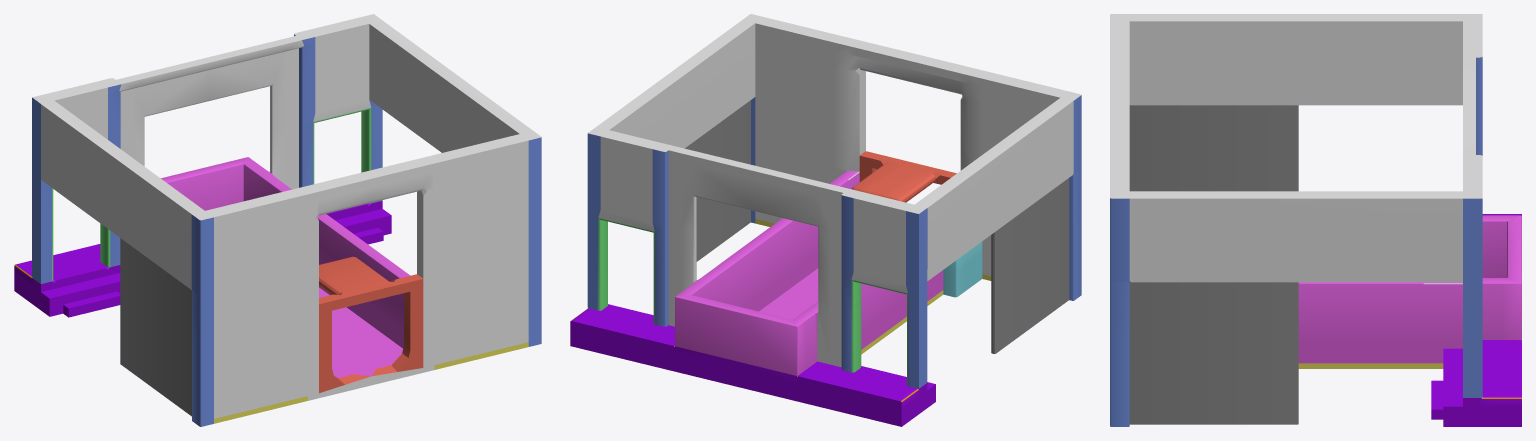
The model's file is OvenFrontEntry.fbx.
The picture shows the model from 3 angles, left to right: view 1: azimuth 30°, elevation 25°; view 2: azimuth 150°, elevation 25°; view 3: azimuth 270°, elevation 25°; orthographic projection. The views are drawn at different scales.
Visible parts, largest first — view 1: FrontEntry; view 2: FrontEntry; view 3: FrontEntry.
Boxes of the visible parts, box(x1,y1,x2,y2) form: FrontEntry: box(14, 14, 541, 426); FrontEntry: box(570, 14, 1081, 426); FrontEntry: box(1110, 14, 1521, 426).
Bounding box in the file's own units: 8.28 × 4.78 × 7.8.
